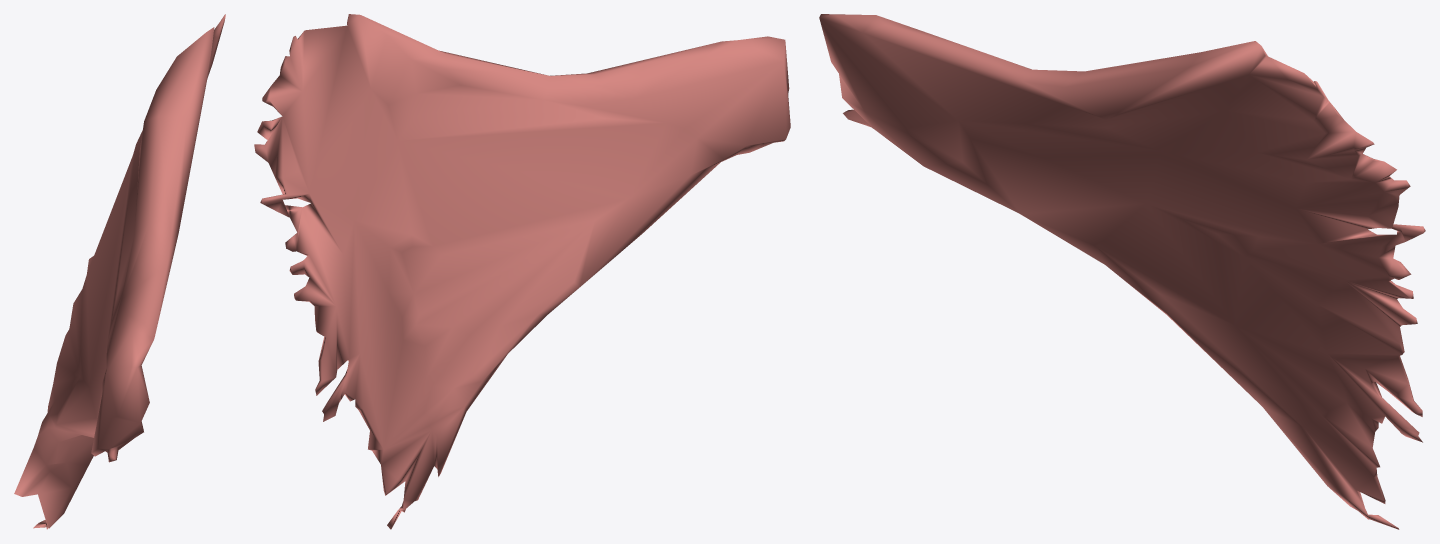
3 renders of one model, left to right at view 1: azimuth 30°, elevation 25°; view 2: azimuth 150°, elevation 25°; view 3: azimuth 270°, elevation 25°, orthographic. The views are drawn at different scales.
Visible parts, largest first — view 1: ZA_6b85aa4d89ecd902; view 2: ZA_6b85aa4d89ecd902; view 3: ZA_6b85aa4d89ecd902.
Part boxes in pixels (<box>): ZA_6b85aa4d89ecd902: <box>14,14,225,529</box>; ZA_6b85aa4d89ecd902: <box>254,14,790,529</box>; ZA_6b85aa4d89ecd902: <box>819,14,1425,529</box>.
Bounding box in the file's own units: 0.0197 × 0.0272 × 0.0275.
